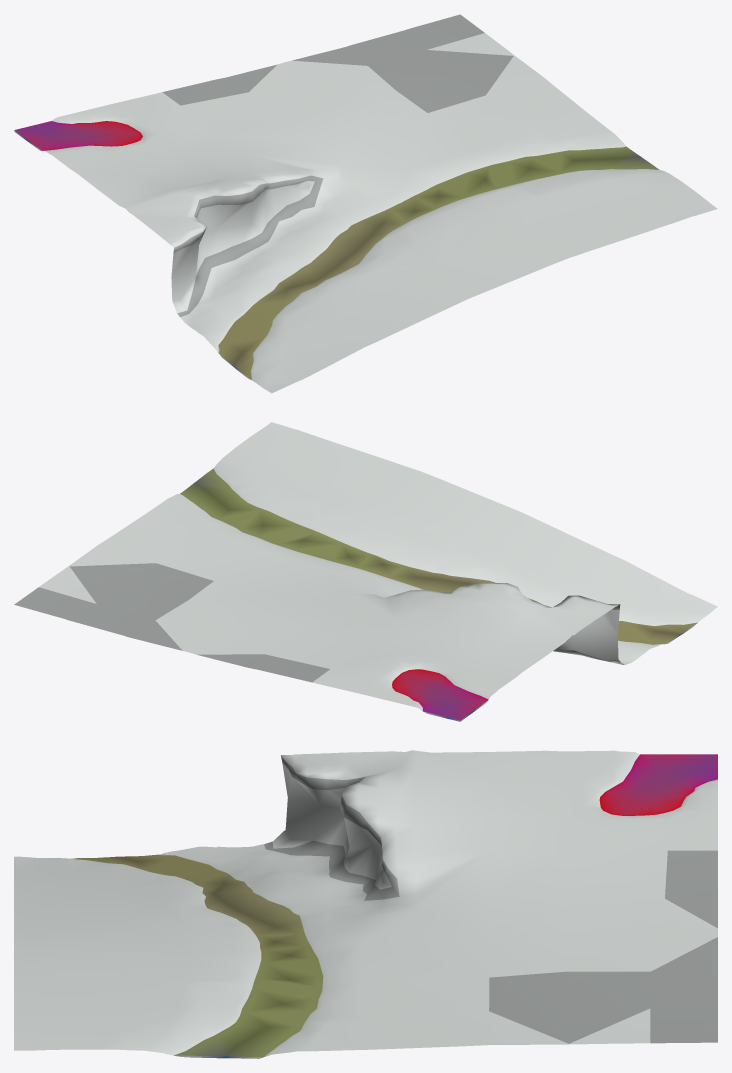
3 renders of one model, top to bottom at view 1: azimuth 30°, elevation 25°; view 2: azimuth 150°, elevation 25°; view 3: azimuth 270°, elevation 25°, orthographic. The views are drawn at different scales.
Visible parts, largest first — view 1: G:\FFXIV-MapTools\exports\r2f1\bg\ex1\01_roc_r2\fld\r2f1\bgp (×7); view 2: G:\FFXIV-MapTools\exports\r2f1\bg\ex1\01_roc_r2\fld\r2f1\bgp (×6); view 3: G:\FFXIV-MapTools\exports\r2f1\bg\ex1\01_roc_r2\fld\r2f1\bgp (×7).
Boxes of the visible parts, bbox=[...] form: G:\FFXIV-MapTools\exports\r2f1\bg\ex1\01_roc_r2\fld\r2f1\bgp (×7): bbox=[14, 14, 717, 393]; G:\FFXIV-MapTools\exports\r2f1\bg\ex1\01_roc_r2\fld\r2f1\bgp (×6): bbox=[14, 422, 717, 720]; G:\FFXIV-MapTools\exports\r2f1\bg\ex1\01_roc_r2\fld\r2f1\bgp (×7): bbox=[14, 750, 717, 1056].
Size of the model in its own units: 128 by 25.75 by 128.
